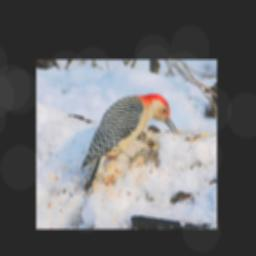Woodpecker: (78, 93, 178, 197)
